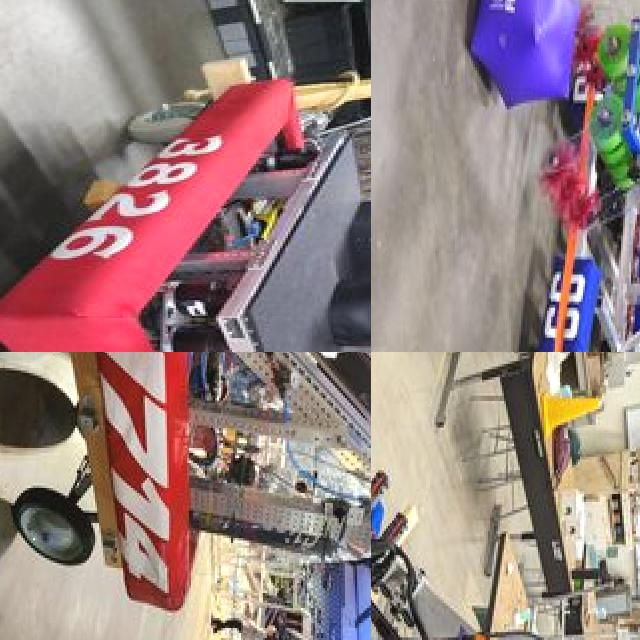FRC-Robots: (61, 66, 371, 352), (85, 352, 371, 631), (371, 352, 640, 640), (506, 64, 640, 352)
